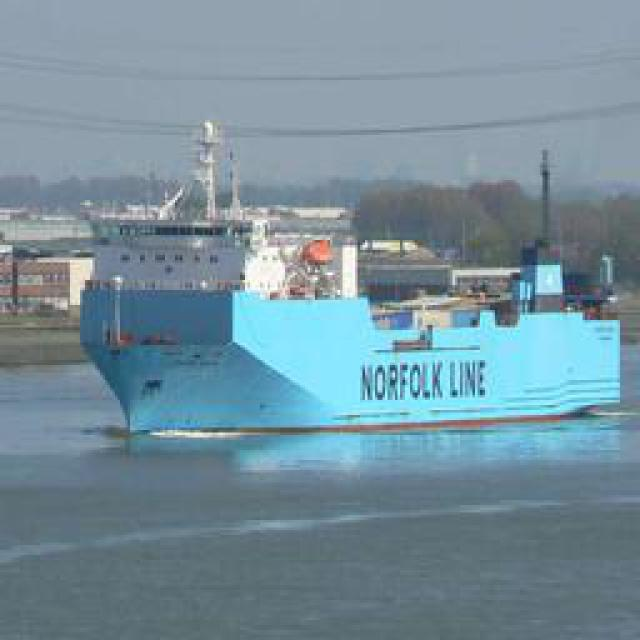Ship: (85, 111, 620, 436)
